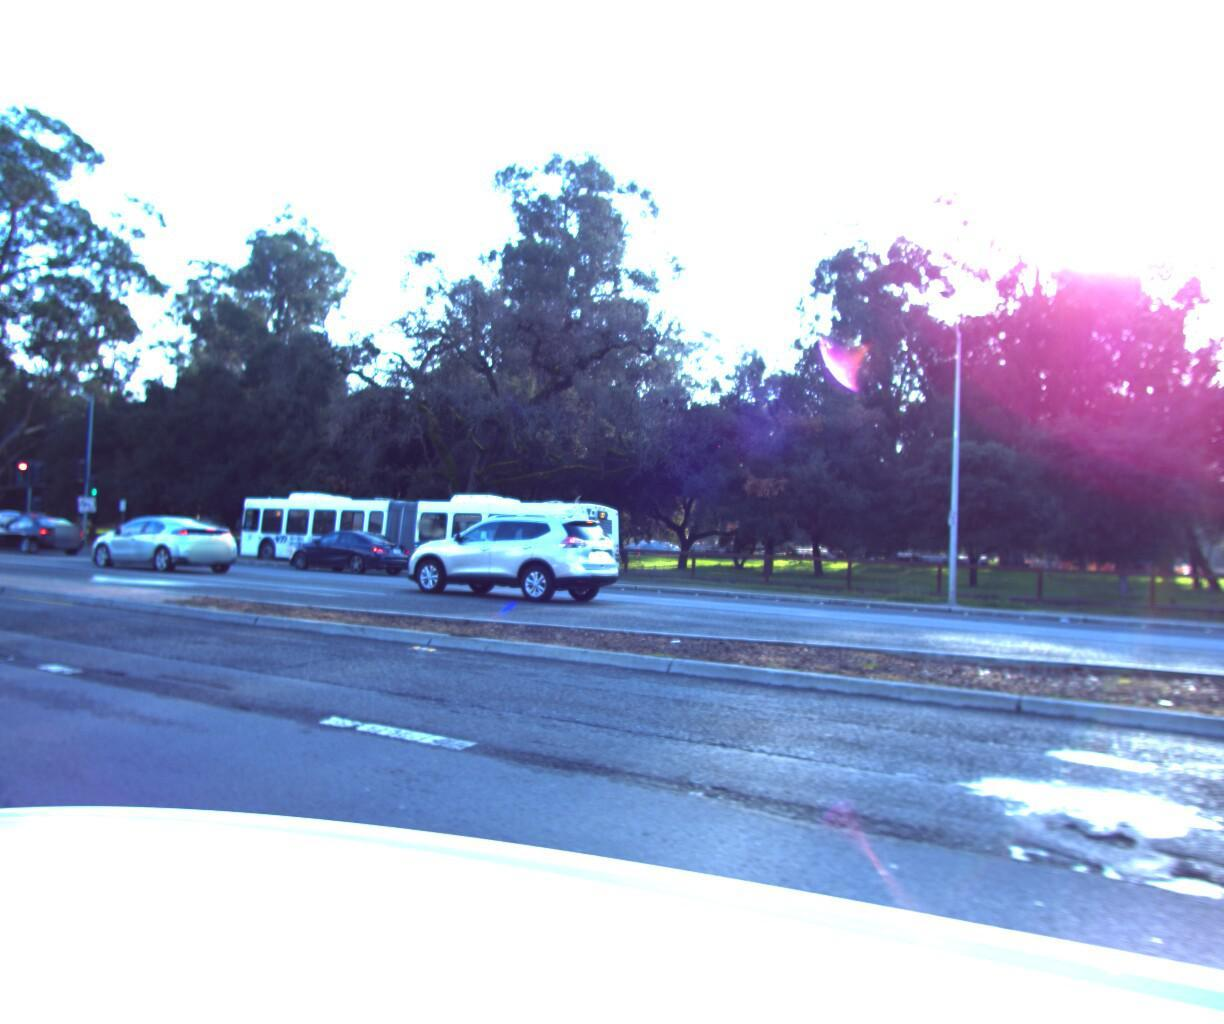bus: (215, 481, 630, 575)
car: (397, 505, 644, 604), (77, 501, 249, 573), (282, 523, 419, 571), (0, 508, 88, 553), (0, 502, 61, 545)
